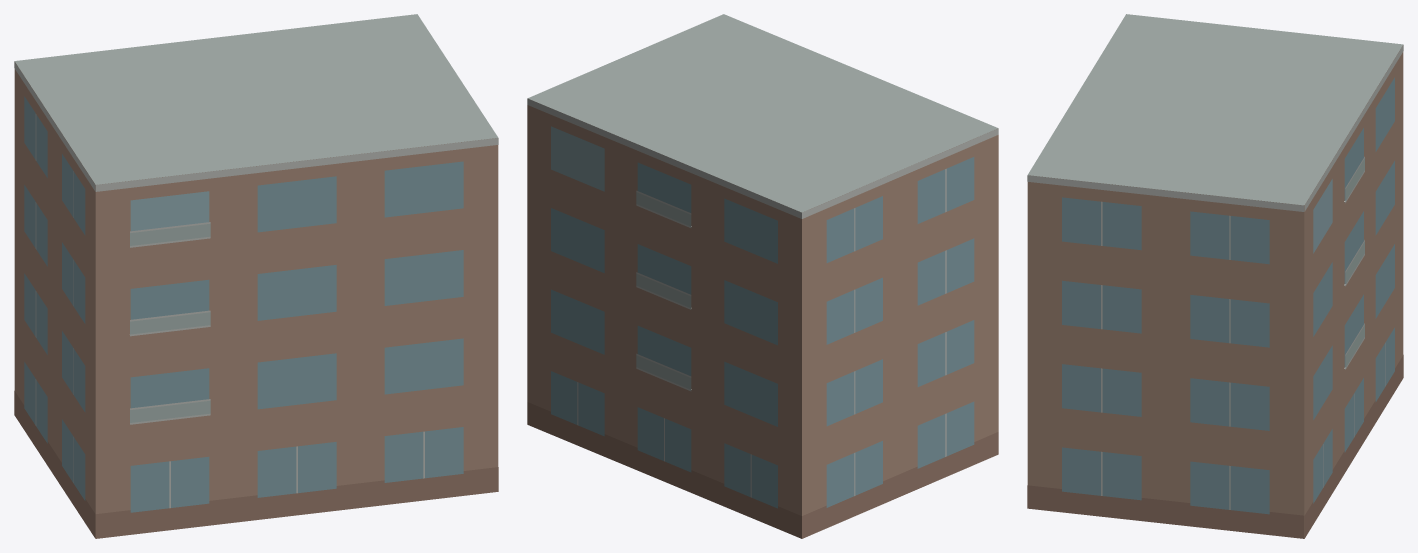
Rendered from residential-80dff50e-dfaa-4dc7-9105-b209ea62ef73.glb.
3 renders of one model, left to right at view 1: azimuth 30°, elevation 25°; view 2: azimuth 150°, elevation 25°; view 3: azimuth 270°, elevation 25°, orthographic. The views are drawn at different scales.
Parts seen in each view (by area): view 1: residential-80dff50e-dfaa-4dc7-9105-b209ea62ef73.tmp; view 2: residential-80dff50e-dfaa-4dc7-9105-b209ea62ef73.tmp; view 3: residential-80dff50e-dfaa-4dc7-9105-b209ea62ef73.tmp.
Boxes of the visible parts, x1,y1,x2,y2 form: residential-80dff50e-dfaa-4dc7-9105-b209ea62ef73.tmp: (14,14,498,538); residential-80dff50e-dfaa-4dc7-9105-b209ea62ef73.tmp: (527,14,998,538); residential-80dff50e-dfaa-4dc7-9105-b209ea62ef73.tmp: (1027,14,1403,538).
Bounding box in the file's own units: 15.03 × 12.2 × 12.48.
